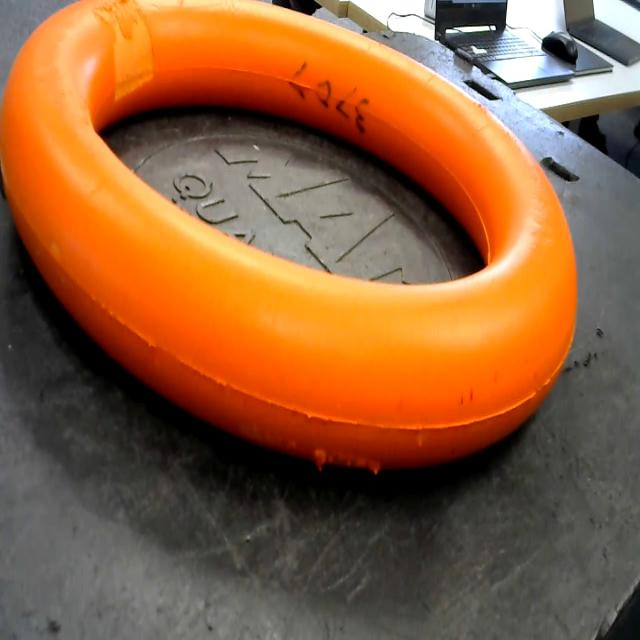note: (0, 0, 583, 482)
